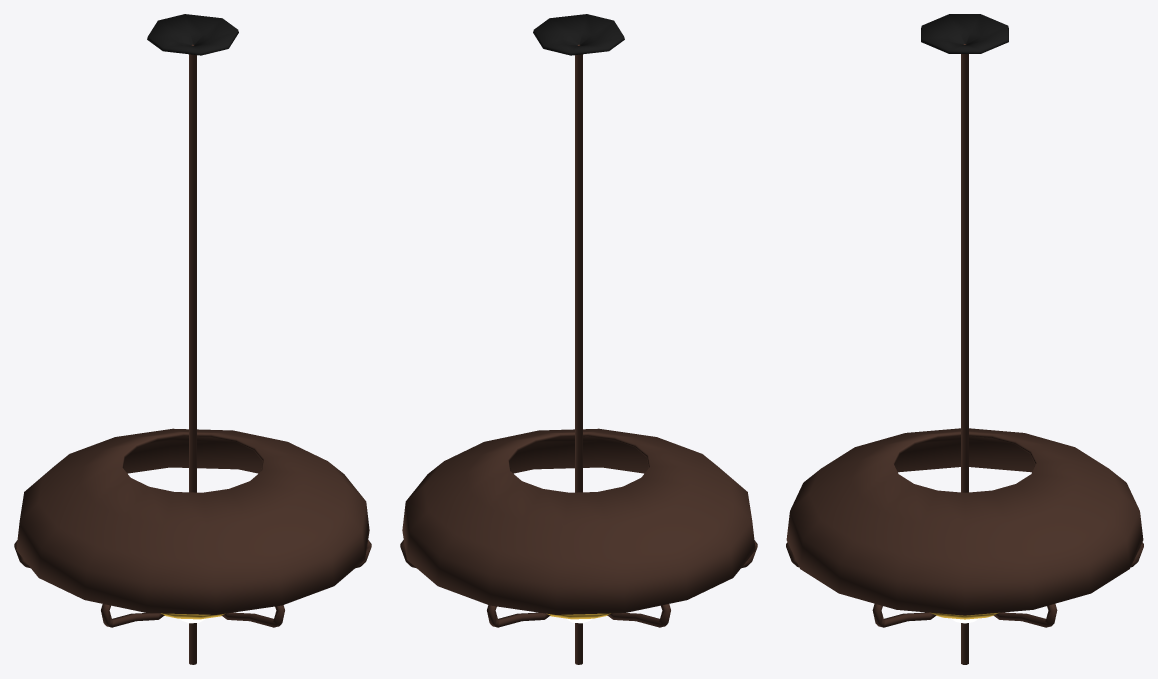
The model's file is Lamparatecho.fbx.
3 renders of one model, left to right at view 1: azimuth 30°, elevation 25°; view 2: azimuth 150°, elevation 25°; view 3: azimuth 270°, elevation 25°, orthographic.
Parts seen in each view (by area): view 1: Lamparatecho; view 2: Lamparatecho; view 3: Lamparatecho.
Boxes of the visible parts, x1=… form: Lamparatecho: x1=14, y1=14, x2=371, y2=664; Lamparatecho: x1=400, y1=14, x2=757, y2=664; Lamparatecho: x1=786, y1=14, x2=1143, y2=664.
Bounding box in the file's own units: 50.12 × 97.8 × 50.27.
